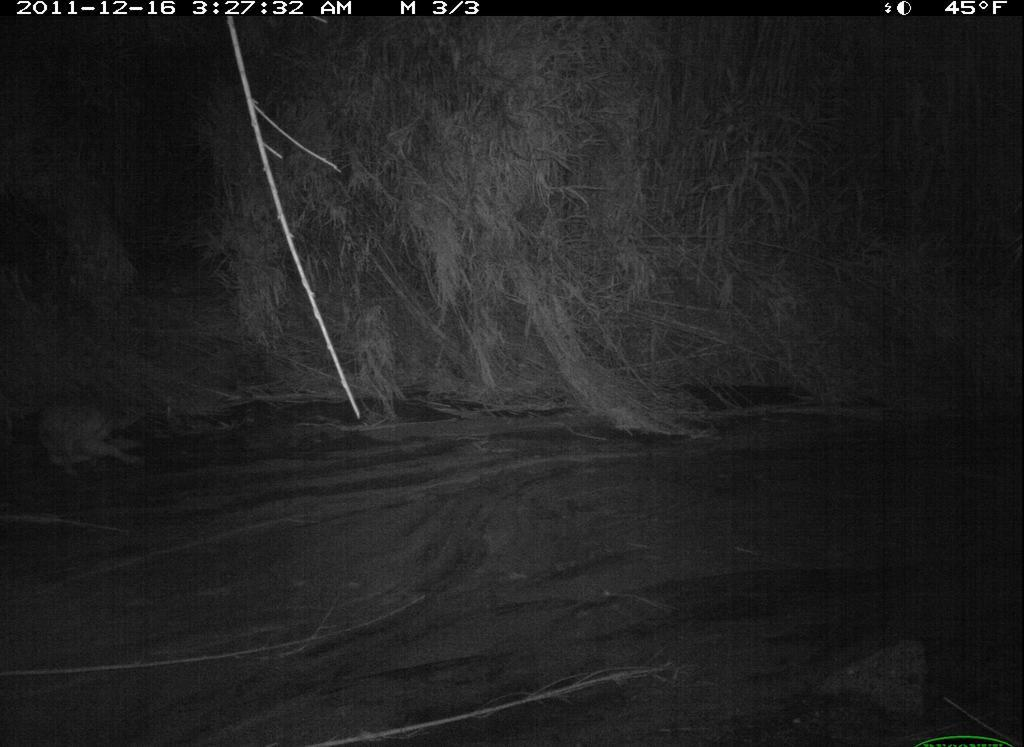coyote: (25, 377, 166, 486)
